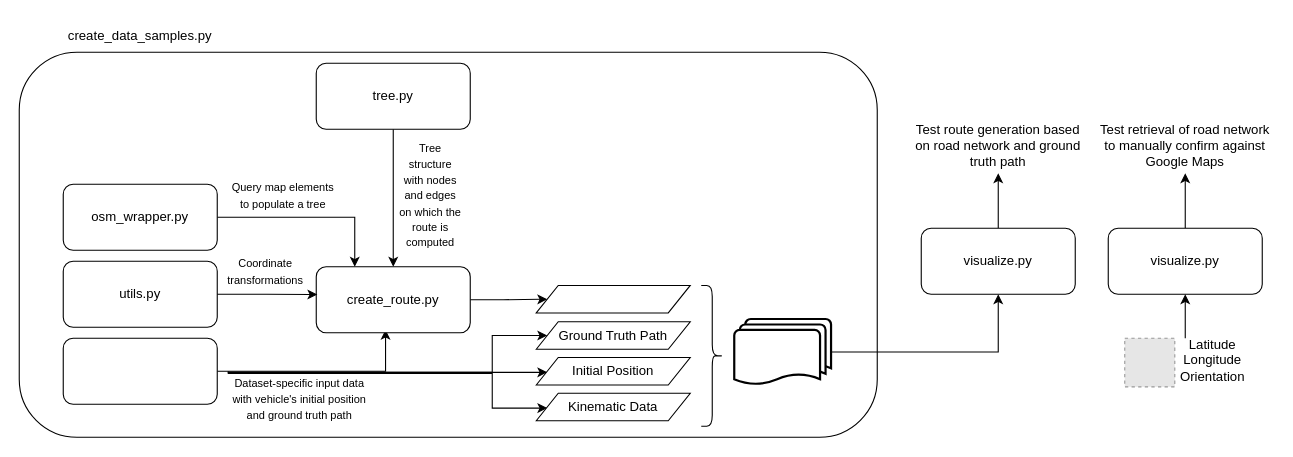
This 1293x457 diagram has some shape labels left out. Grey dashed boxes stand in for pictures. The shapes that lost their labels are listed below. From the top down, each one's box as (x1, y1, x2, y2) in pixels, then its label:
(535, 284, 690, 313): Route
(62, 337, 217, 404): load_dataset.py
(733, 317, 832, 386): .pkl files
